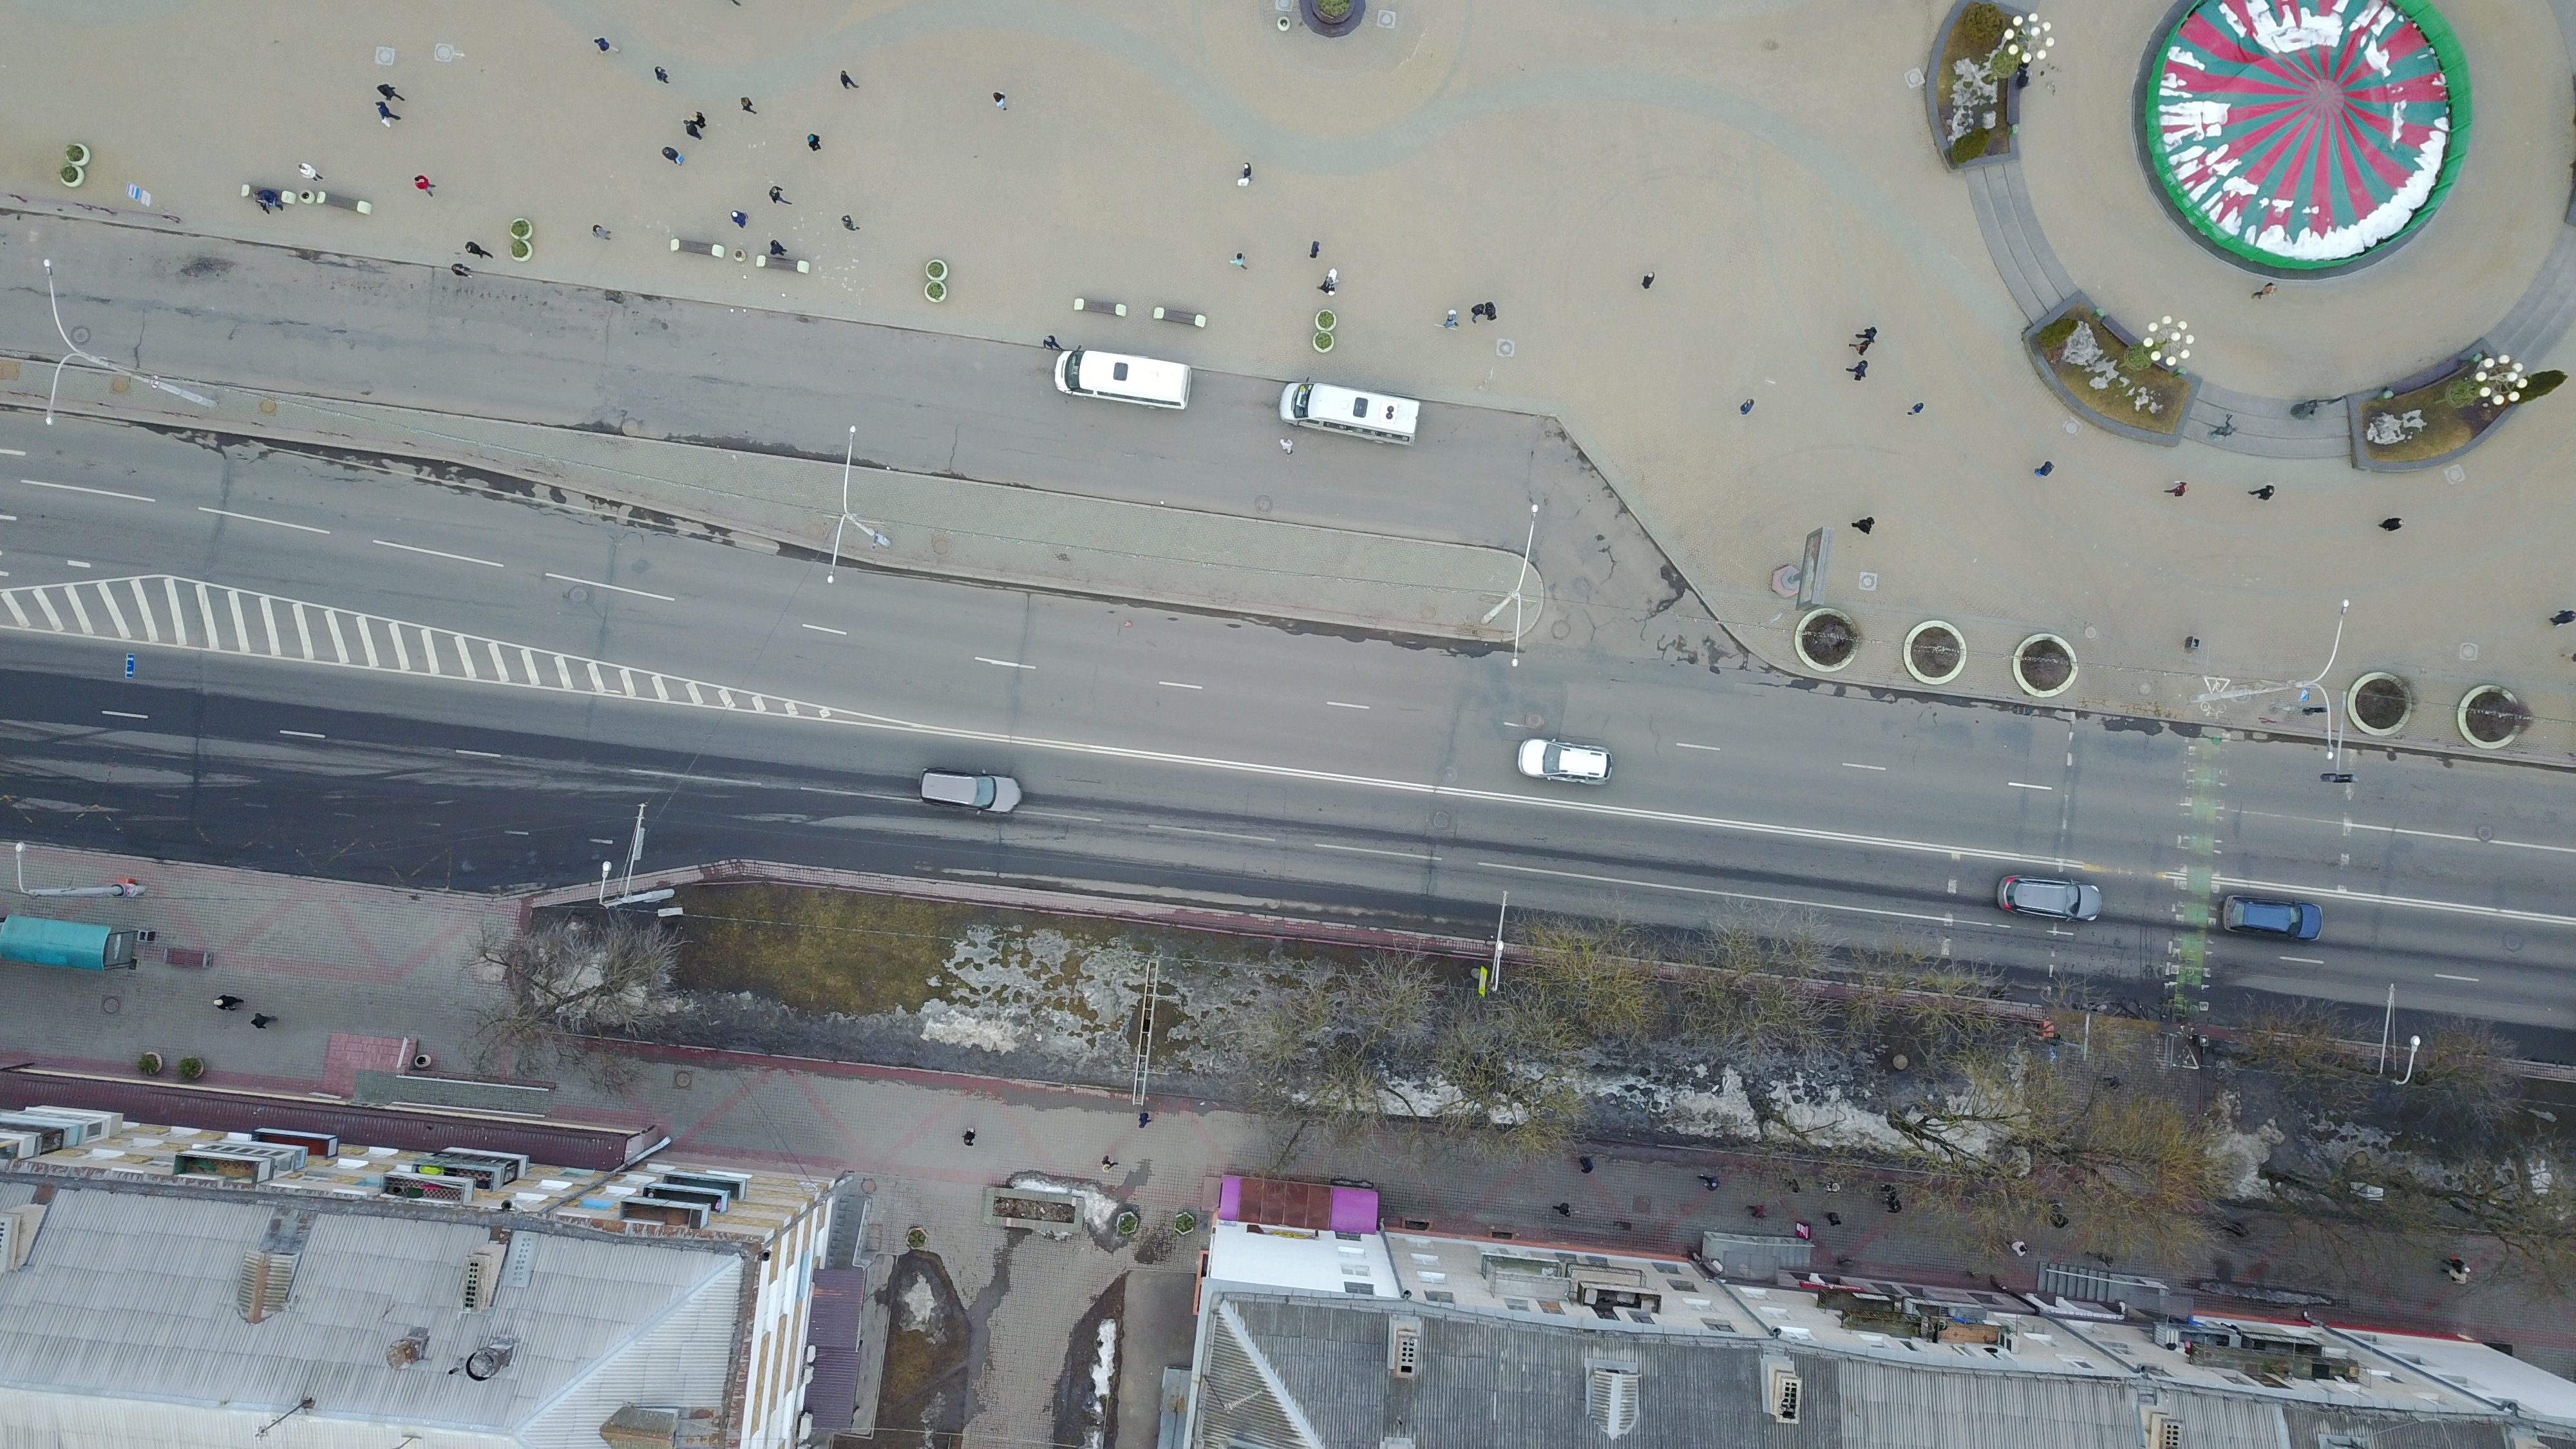car: (1990, 862, 2107, 931), (2213, 886, 2334, 952), (915, 763, 1026, 819), (1516, 732, 1619, 793)
